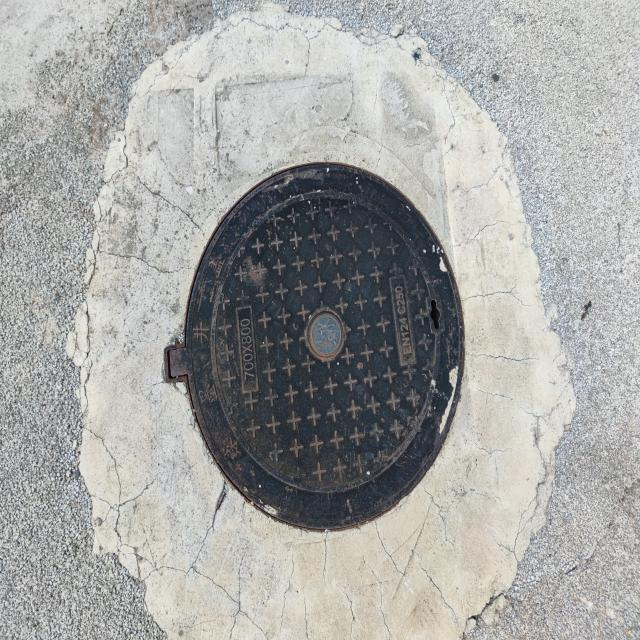Good: (156, 163, 474, 547)
